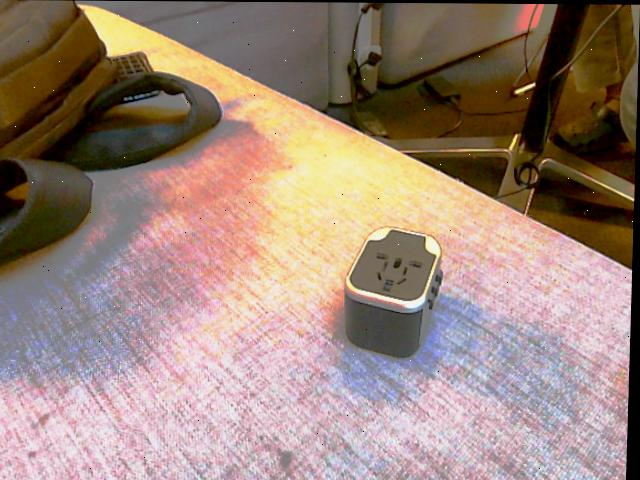adapter: (343, 224, 446, 357)
